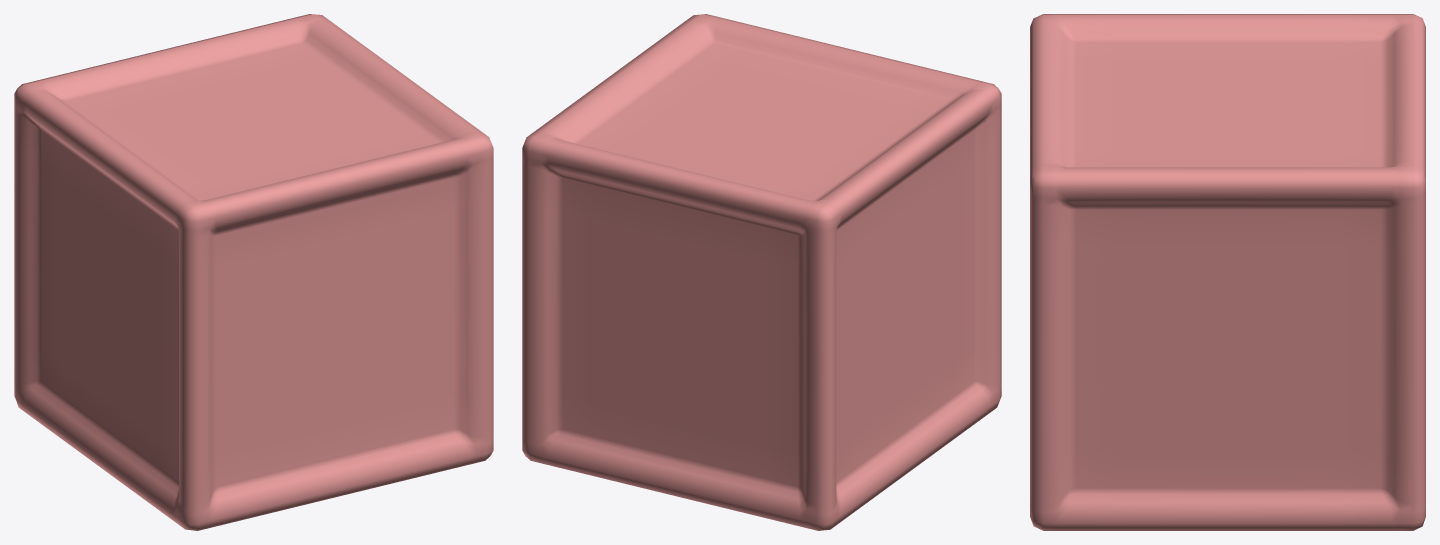
The model's file is Red Block.fbx.
3 views of the same model, side by side, from view 1: azimuth 30°, elevation 25°; view 2: azimuth 150°, elevation 25°; view 3: azimuth 270°, elevation 25° (orthographic). The views are drawn at different scales.
Visible parts, largest first — view 1: pCube13; view 2: pCube13; view 3: pCube13.
Boxes of the visible parts, x1,y1,x2,y2 form: pCube13: [14, 14, 493, 530]; pCube13: [522, 14, 1001, 530]; pCube13: [1030, 14, 1425, 530].
Bounding box in the file's own units: 1.88 × 1.88 × 1.88.
